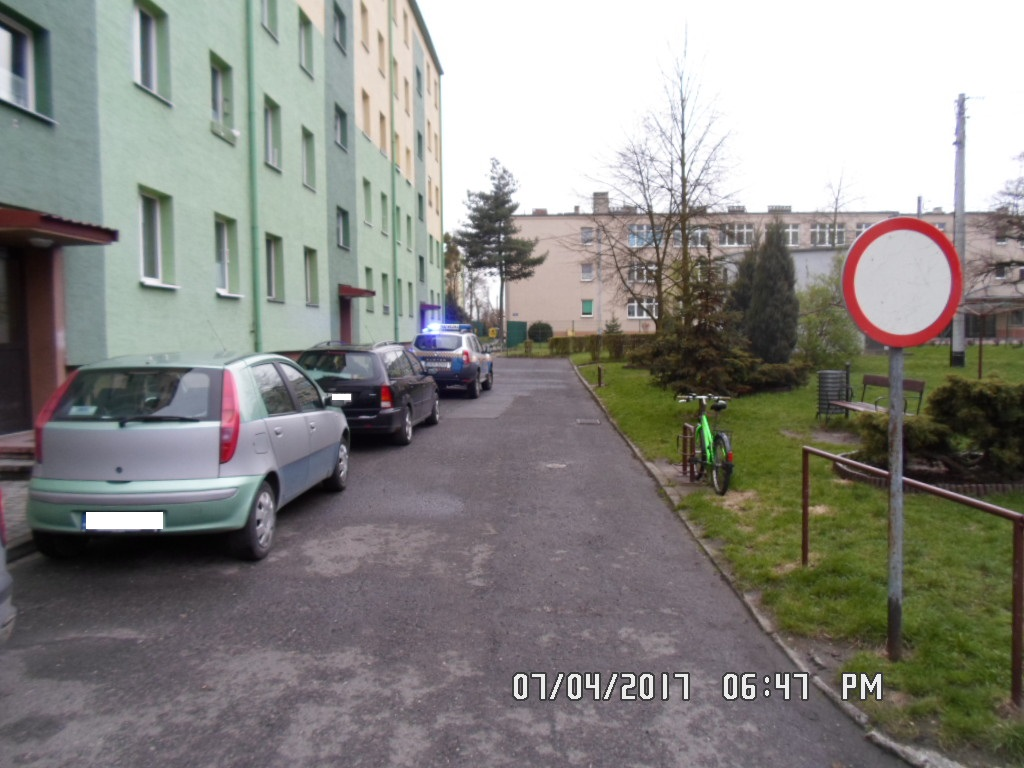no_entry_sign: (843, 218, 965, 350)
